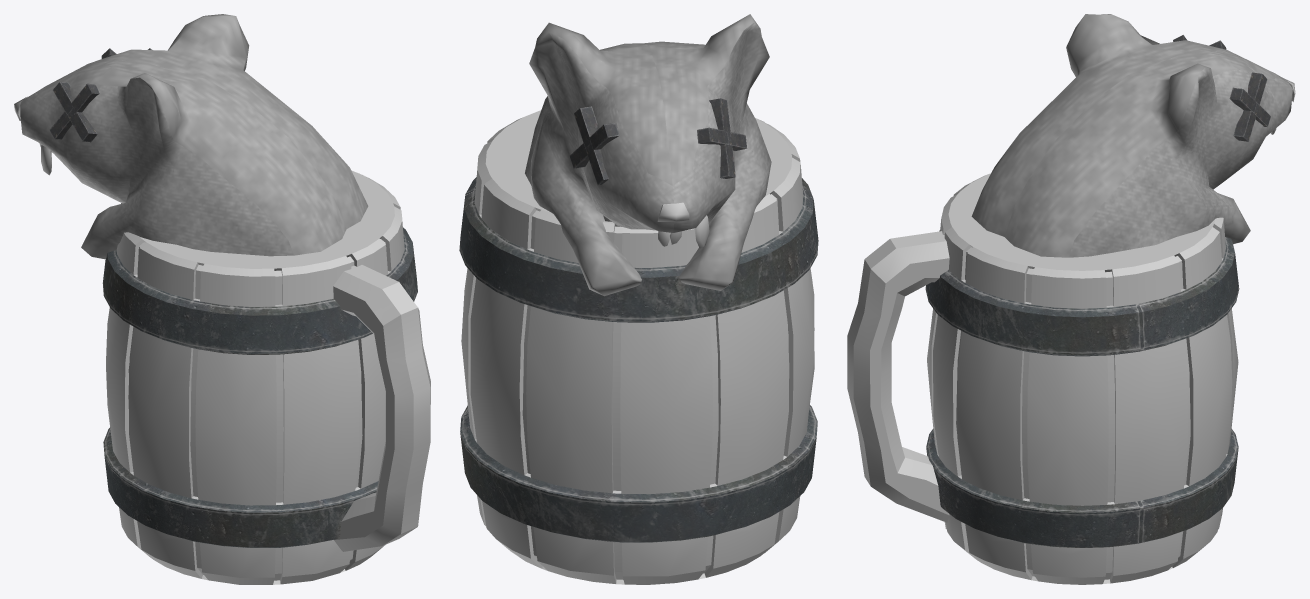
File: SM_Prop_DrownedRat.fbx
3 views of the same model, side by side, from view 1: azimuth 30°, elevation 25°; view 2: azimuth 150°, elevation 25°; view 3: azimuth 270°, elevation 25° (orthographic). The views are drawn at different scales.
Visible parts, largest first — view 1: SM_Prop_DrownedRat_LOD0; view 2: SM_Prop_DrownedRat_LOD0; view 3: SM_Prop_DrownedRat_LOD0.
Part boxes in pixels (x1=…): SM_Prop_DrownedRat_LOD0: x1=14, y1=14, x2=430, y2=584; SM_Prop_DrownedRat_LOD0: x1=459, y1=14, x2=818, y2=584; SM_Prop_DrownedRat_LOD0: x1=847, y1=14, x2=1295, y2=584.
Bounding box in the file's own units: 125 × 173 × 200.
Materials: 3 (2 with a texture image).
